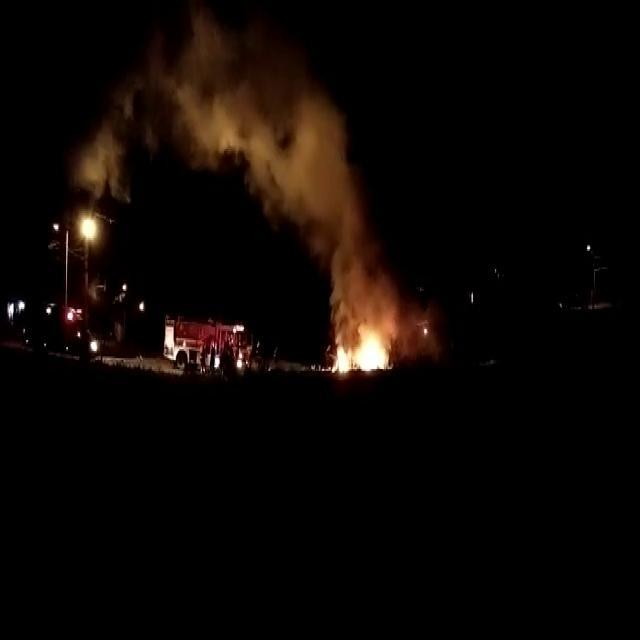Fire: (357, 317, 398, 377), (324, 336, 352, 378)
Smoke: (175, 72, 374, 262), (68, 114, 134, 206)
